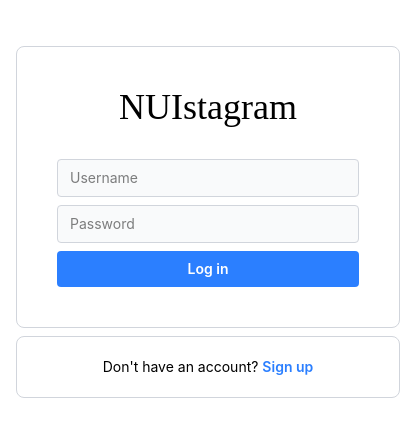
it: Login › should show error message on login failure
Type "wronguser" into the field with placeholder "Username".
click(208, 178); type("wronguser")  # box [57, 159, 359, 197]
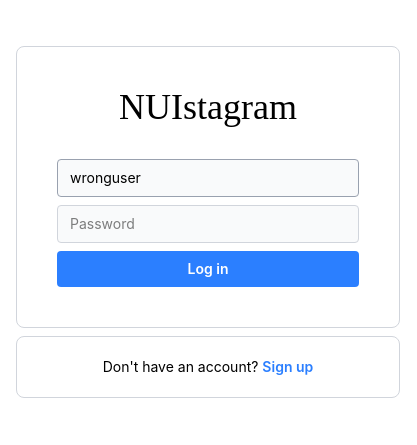
Type "wrongpass" into the password field with placeholder "Password".
click(208, 224); type("wrongpass")  # box [57, 205, 359, 243]
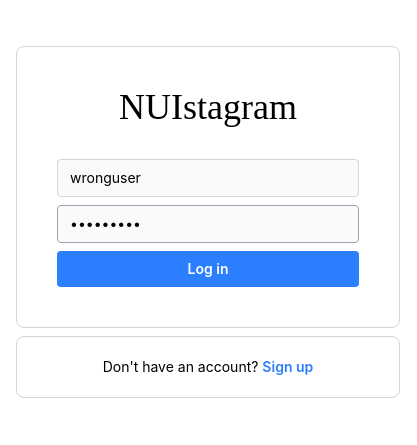
Click the button "Log in".
click(208, 269)  # box [57, 251, 359, 287]
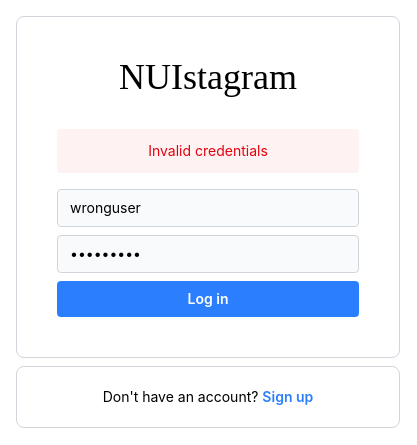
expect the text "Invalid credentials" is shown: met, box [57, 129, 359, 173]
